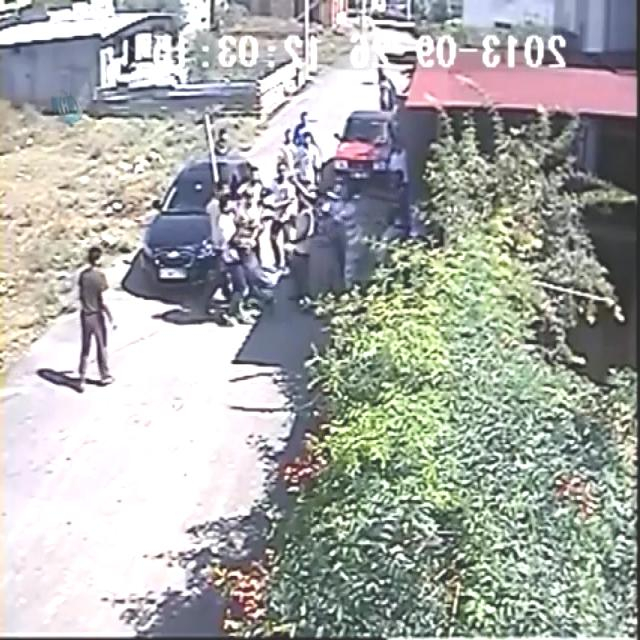fight: (212, 190, 264, 326)
